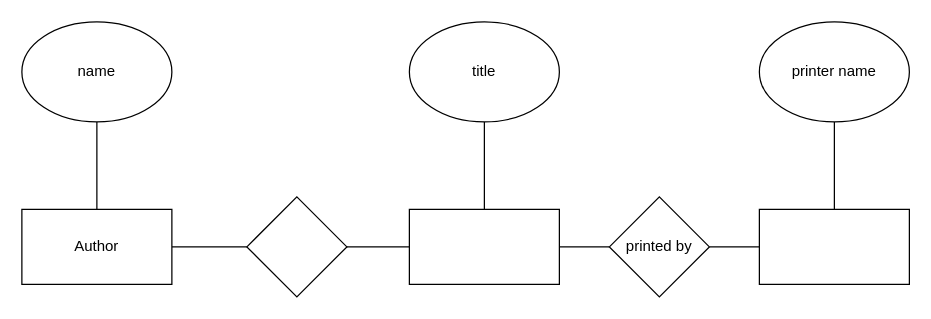
The diagram is 931 pixels wide and 319 high, and some of its shapes have lost their labels. The box of each missing label's shape, as (x1, y1, x2, y2) in pixels:
Book: (408, 208, 559, 284)
Printer: (758, 208, 909, 284)
writes: (246, 196, 347, 297)
